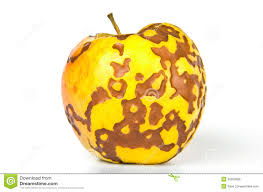damaged_apple: (68, 23, 206, 161)
